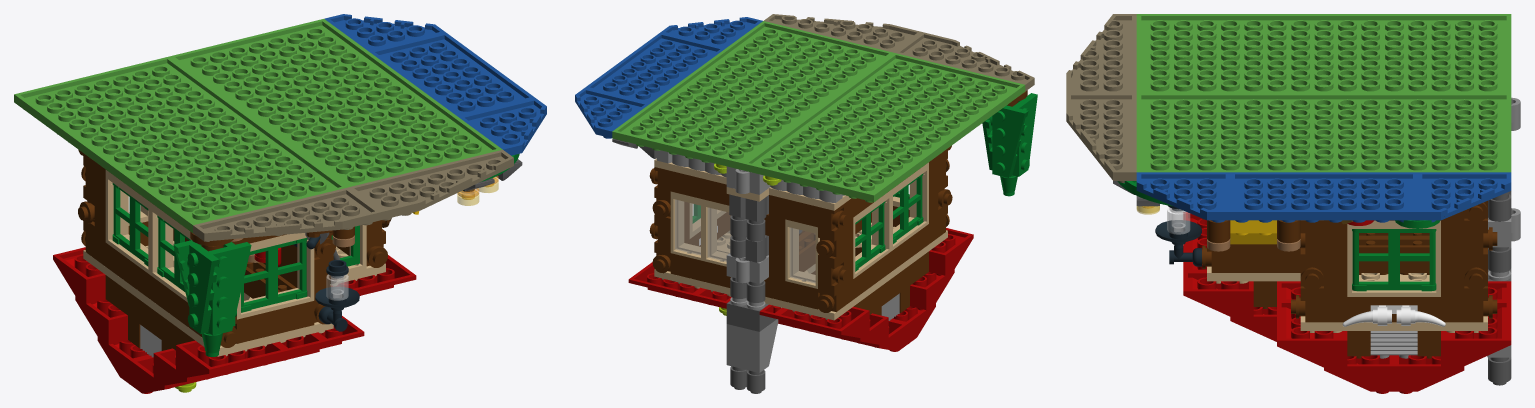
3 views of the same model, side by side, from view 1: azimuth 30°, elevation 25°; view 2: azimuth 150°, elevation 25°; view 3: azimuth 270°, elevation 25° (orthographic). The views are drawn at different scales.
Size of the model in its own units: 410 by 268 by 388.
